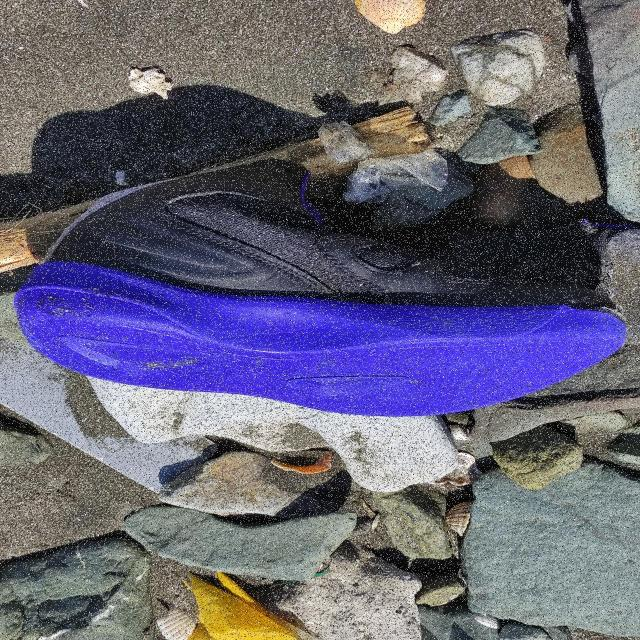rubber_waste: (14, 157, 631, 419)
